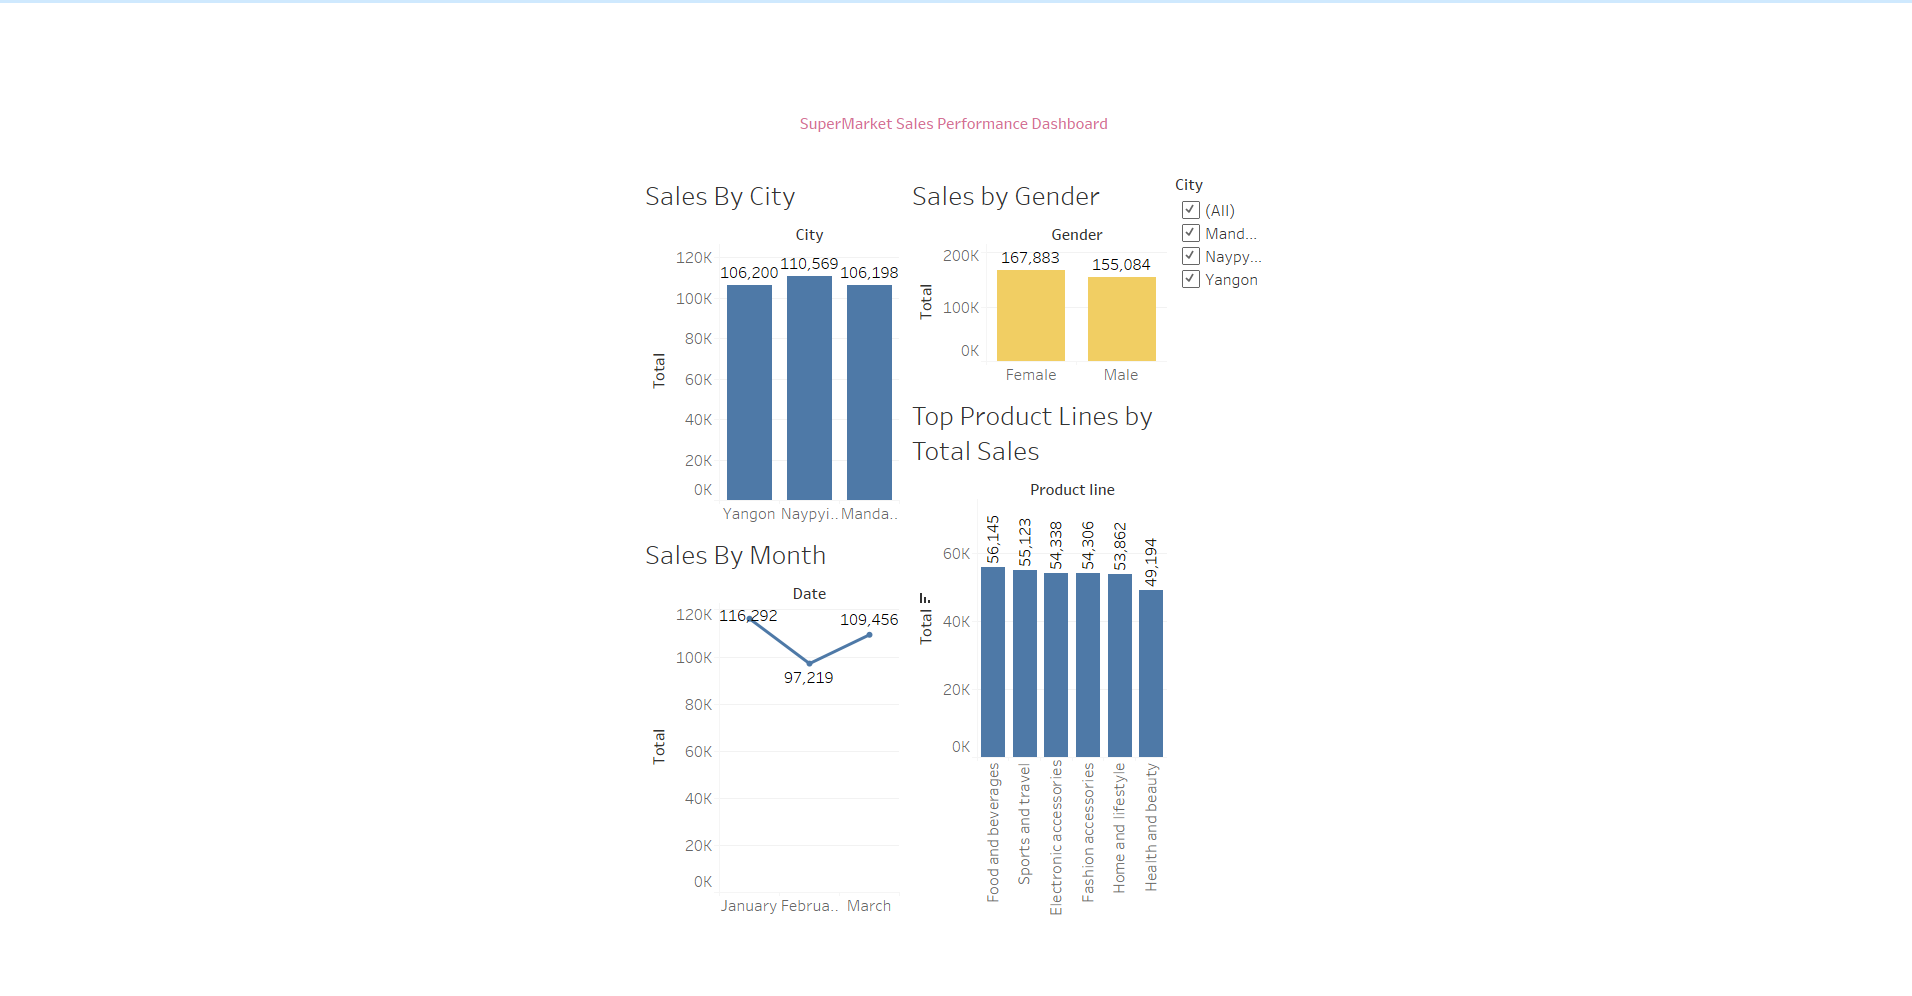

Layout of this report page (visuals, bound fields, positions):
{"tool":"tableau","page":{"name":"Dashboard 1","canvas":[650,860],"ordinal":0},"visuals":[{"type":"text","box":[8,8.6,634,93.3]},{"type":"worksheet","title":"Sales By City","mark":"Automatic","rows":["Total"],"cols":["City"],"box":[8,101.8,267,358.2]},{"type":"worksheet","title":"Sales by Gender","mark":"Automatic","rows":["Total"],"cols":["Gender"],"box":[275,101.8,267,219.5]},{"type":"filter","title":"Sales By City","param":"[federated.1pm7d620eoh5gn137svxh0s9k75e].[none:City:nk]","box":[542,101.8,100,137.3]},{"type":"worksheet","title":"Top Product Lines by Total Sales","mark":"Bar","rows":["Total"],"cols":["Product line"],"box":[275,321.4,267,530.1]},{"type":"worksheet","title":"Sales By Month","mark":"Automatic","rows":["Total"],"cols":["Date"],"box":[8,460,267,391.4]}]}

Visuals, with their boxes on the page's 650x860 design canvas (x1, y1, x2, y2). These are canvas units, not pixel positions in the 1912x996 screenshot, which may show the page scaled, cropped or inside an application window:
text: 8 9 642 102
"Sales By City" worksheet: 8 102 275 460
"Sales by Gender" worksheet: 275 102 542 321
"Sales By City" filter: 542 102 642 239
"Top Product Lines by Total Sales" worksheet (Bar marks): 275 321 542 852
"Sales By Month" worksheet: 8 460 275 851
